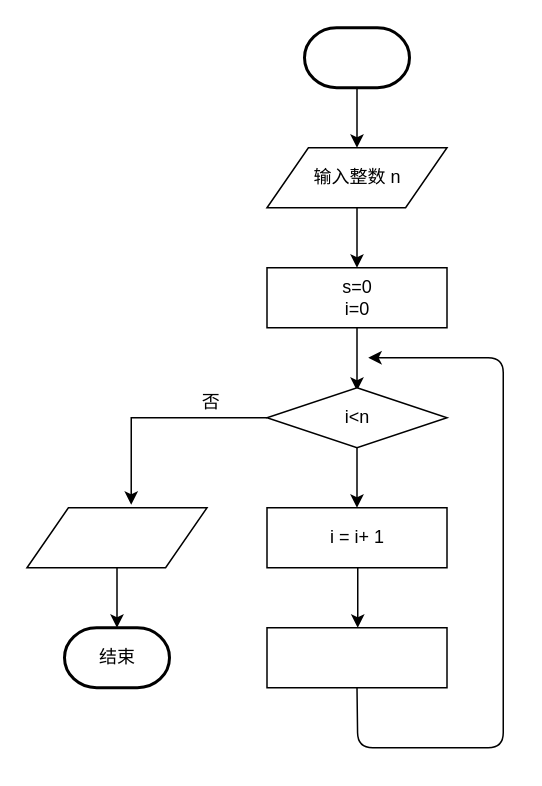
This 542x786 diagram has some shape labels left out. The shapes that lost their labels are listed below. From the top down, each one's box as (x1, y1, x2, y2) in pixels, then its label:
(302, 26, 410, 88): 开始
(26, 506, 207, 568): 输出累加结果
(266, 626, 447, 688): s = s + 1/i
